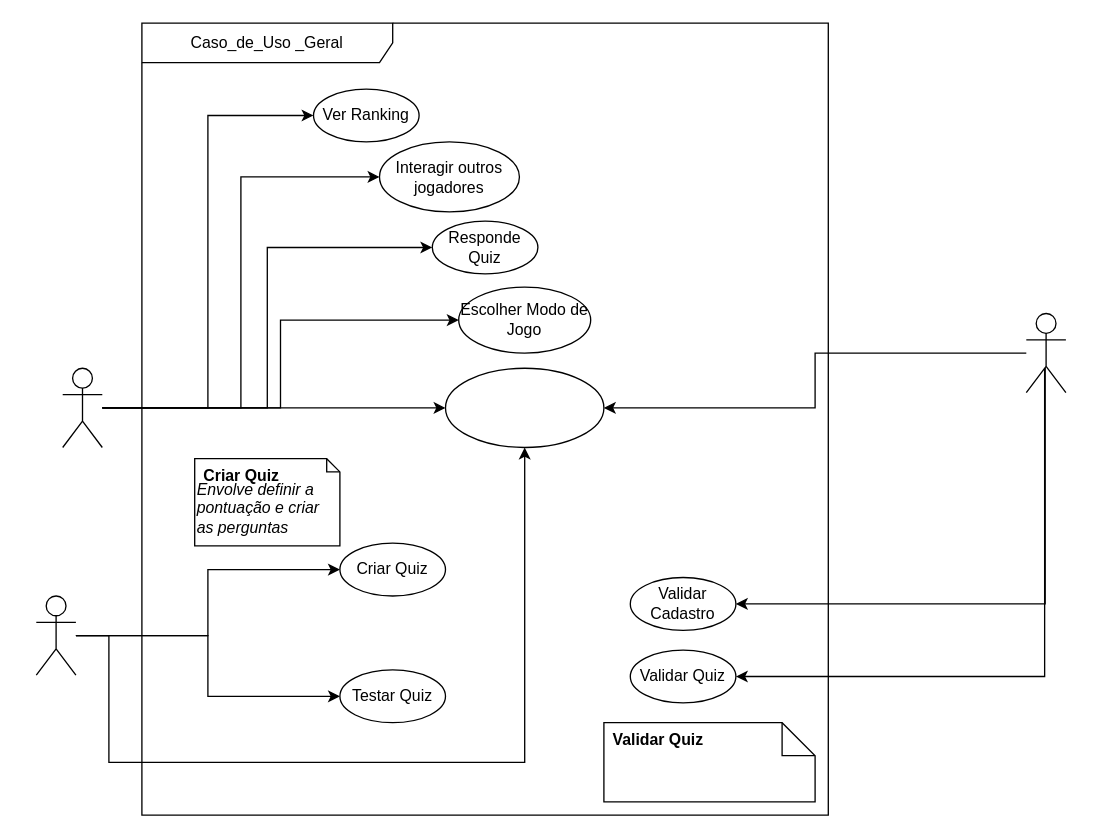
Some shapes in this 1113 by 838 pixel diagram are drawn without their labels. The shapes that lost their labels are listed below. From the top down, each one's centre as x and y in pixels, then its label:
[1045,352]: Gerenciador
[81,407]: Aluno
[524,407]: Login
[55,635]: Professor
[709,761]: Pode excluir/recusar um quiz incorreto
